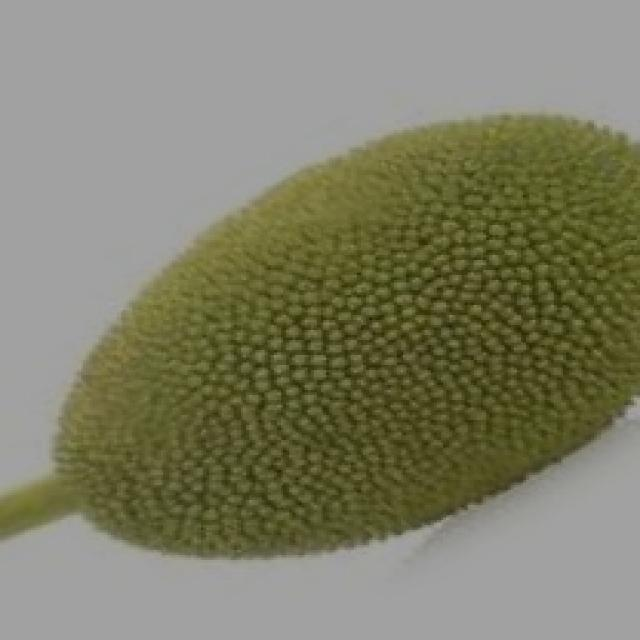Fruit: (22, 215, 440, 593), (267, 97, 640, 490)
